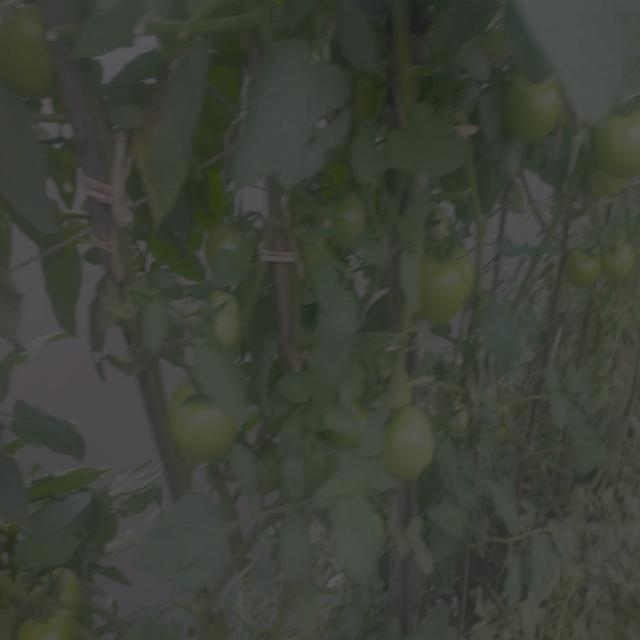tomato: (168, 379, 235, 457), (419, 229, 476, 319), (1, 1, 51, 91), (384, 410, 440, 477), (591, 97, 640, 173), (504, 77, 562, 141), (28, 568, 88, 614), (18, 607, 92, 640), (329, 200, 376, 246), (563, 246, 606, 294), (215, 285, 248, 347), (204, 217, 260, 253), (606, 242, 639, 290), (257, 444, 278, 505)
